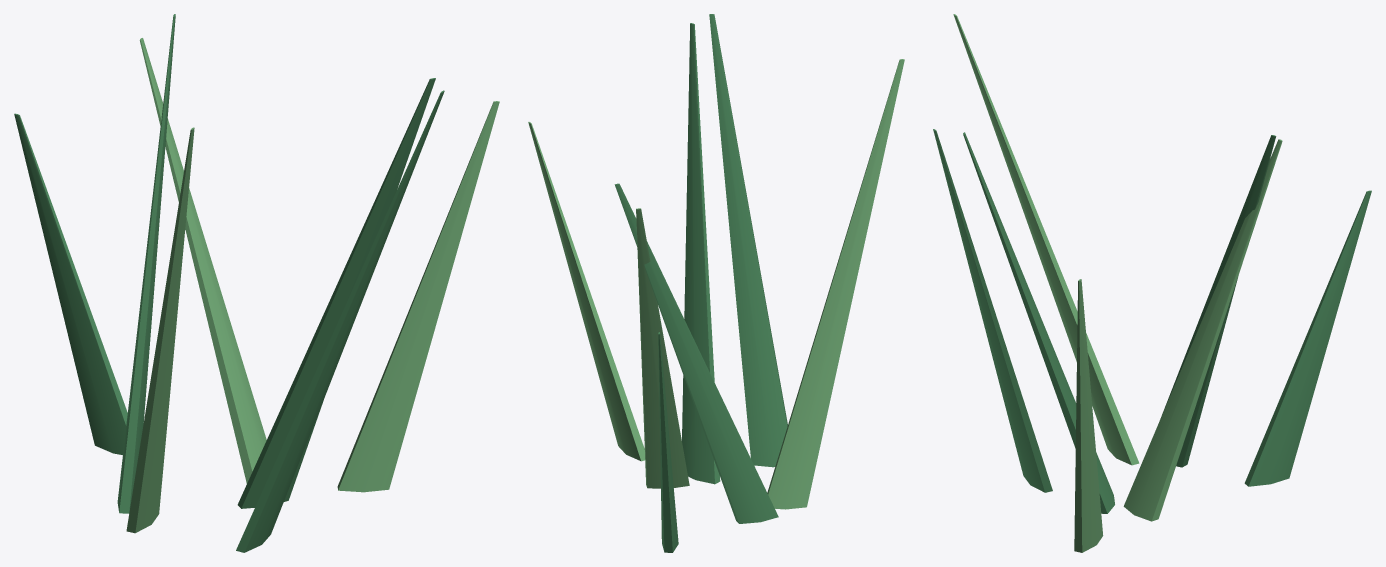
File: prop_uw_eelgrass_a.glb
3 views of the same model, side by side, from view 1: azimuth 30°, elevation 25°; view 2: azimuth 150°, elevation 25°; view 3: azimuth 270°, elevation 25° (orthographic). The views are drawn at different scales.
Parts seen in each view (by area): view 1: eela_6, eela_1, eela_4, eela_2, eela_3, eela_0, eela_5; view 2: eela_0, eela_4, eela_5, eela_2, eela_3, eela_6, eela_1; view 3: eela_3, eela_1, eela_0, eela_4, eela_6, eela_2, eela_5.
Part boxes in pixels (bbox=[...]): eela_6: bbox=[337, 101, 499, 492]; eela_1: bbox=[14, 113, 127, 455]; eela_4: bbox=[236, 90, 444, 552]; eela_2: bbox=[237, 78, 435, 508]; eela_3: bbox=[139, 38, 266, 483]; eela_0: bbox=[126, 127, 194, 533]; eela_5: bbox=[117, 14, 175, 513]; eela_0: bbox=[767, 59, 904, 509]; eela_4: bbox=[709, 14, 787, 467]; eela_5: bbox=[614, 183, 778, 523]; eela_2: bbox=[682, 23, 720, 484]; eela_3: bbox=[636, 208, 689, 488]; eela_6: bbox=[528, 122, 645, 461]; eela_1: bbox=[658, 332, 678, 552]; eela_3: bbox=[1123, 139, 1282, 521]; eela_1: bbox=[1244, 190, 1371, 486]; eela_0: bbox=[953, 14, 1139, 465]; eela_4: bbox=[933, 129, 1052, 492]; eela_6: bbox=[1074, 279, 1103, 552]; eela_2: bbox=[963, 132, 1114, 513]; eela_5: bbox=[1160, 135, 1276, 467].
Bounding box in the file's own units: 0.4152 × 0.4962 × 0.4679.
